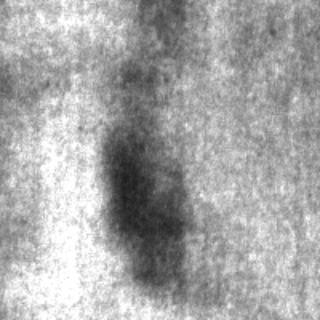patches: (100, 109, 184, 283)
